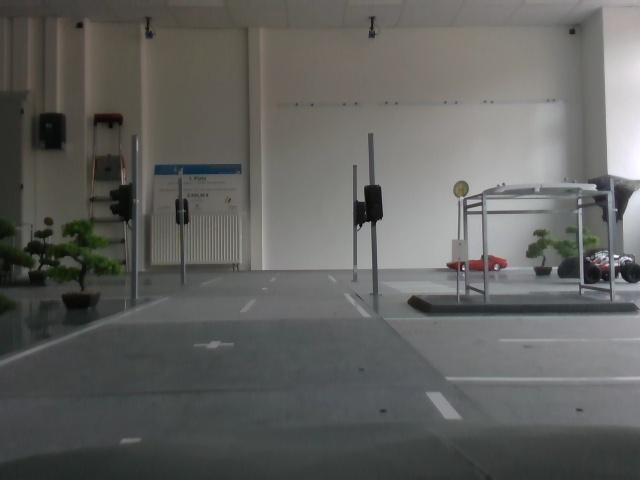car: (594, 255, 640, 285), (453, 253, 508, 278)
potted plant: (53, 218, 113, 321), (32, 216, 58, 289), (565, 225, 596, 281), (530, 227, 560, 279)
traffic light: (362, 179, 388, 237), (111, 179, 143, 226)
